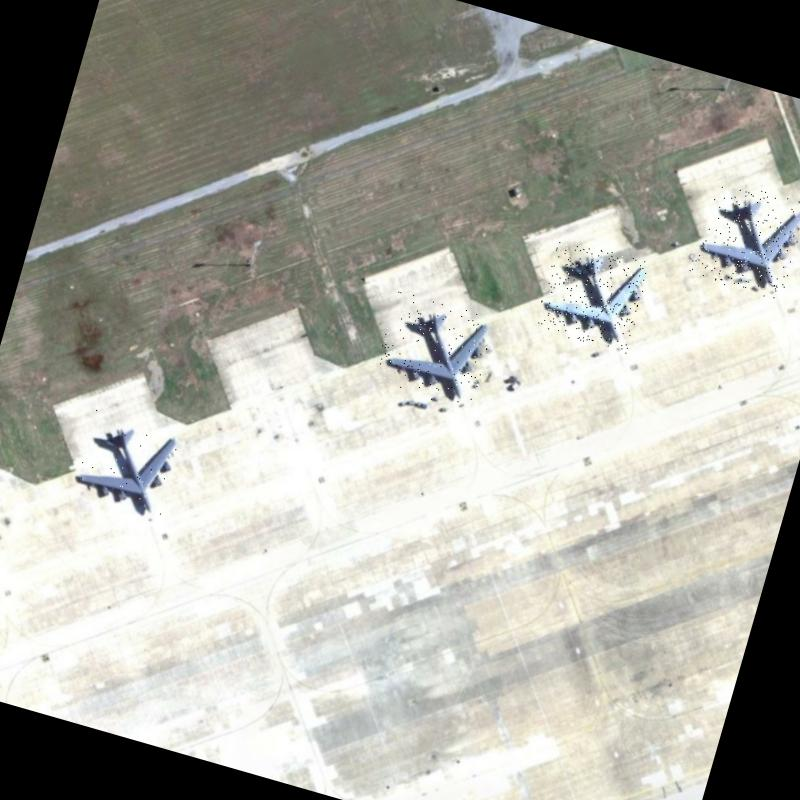A8: (371, 290, 497, 411), (58, 407, 185, 526), (688, 177, 800, 301), (534, 237, 652, 354)
